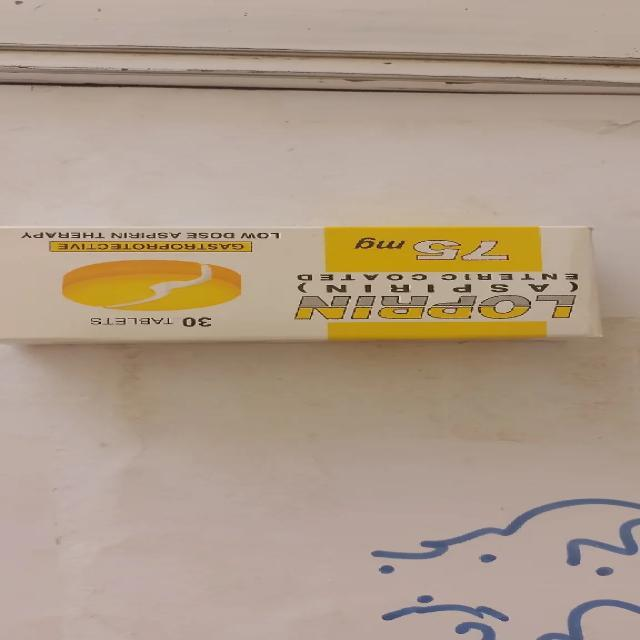drug-name: (289, 294, 583, 320)
